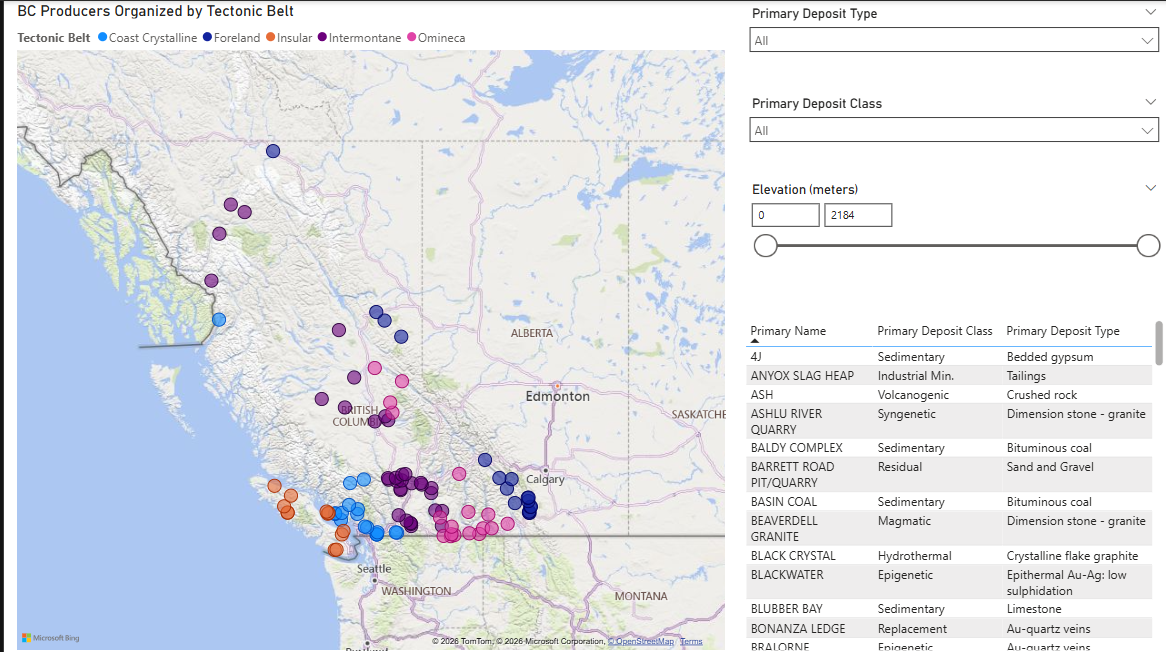

Layout of this report page (visuals, bound fields, positions):
{"tool":"powerbi","page":{"name":"BC Producers Map","canvas":[1280,720],"ordinal":0},"visuals":[{"type":"map","title":"BC Producers Organized by Tectonic Belt","fields":{"Y":["MineralOccurrenceData.LATITUDE "],"X":["MineralOccurrenceData.LONGITUDE"],"Series":["MineralOccurrenceData.TECBLT_D          "]},"box":[9.6,0,789,720.4],"z":0},{"type":"slicer","fields":{"Values":["MineralOccurrenceData.COMMOD_D1                     "]},"box":[809.6,0,470.7,98.8],"z":1000},{"type":"slicer","fields":{"Values":["MineralOccurrenceData.DEPCLA_D1                                         "]},"box":[809.6,98.8,470.7,94.7],"z":2000},{"type":"slicer","fields":{"Values":["MineralOccurrenceData.Elevation (meters)"]},"box":[809.6,193.5,470.7,153.7],"z":3000},{"type":"tableEx","fields":{"Values":["MineralOccurrenceData.Primary Name","MineralOccurrenceData.DEPCLA_D1                                         ","MineralOccurrenceData.DEPTYPE_D1                                         "]},"box":[810,346.5,470.3,374],"z":4000}]}

Visuals, with their boxes in screenshot pixels (x1, y1, x2, y2), scaled from the page's 1280x720 canvas onto the 1166x652 screenshot:
"BC Producers Organized by Tectonic Belt" map: [9, 0, 727, 651]
slicer - MineralOccurrenceData.COMMOD_D1                     : [737, 0, 1165, 89]
slicer - MineralOccurrenceData.DEPCLA_D1                                         : [737, 89, 1165, 175]
slicer - MineralOccurrenceData.Elevation (meters): [737, 175, 1165, 314]
tableEx - MineralOccurrenceData.Primary Name x MineralOccurrenceData.DEPCLA_D1                                         : [738, 314, 1165, 651]
